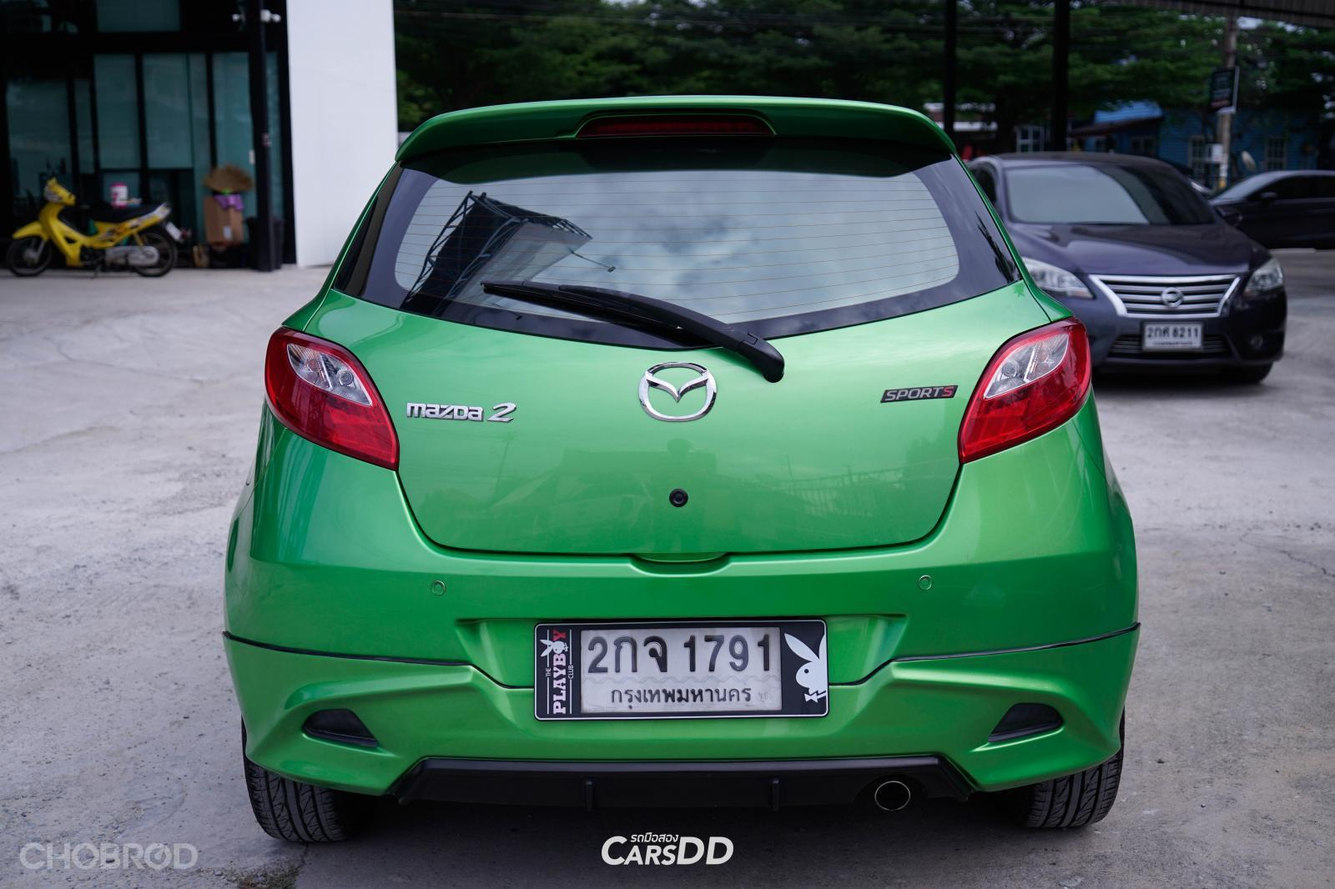license-plate: (525, 621, 836, 722)
